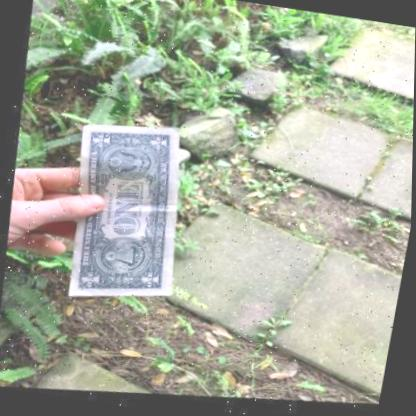one-back: (62, 125, 178, 301)
